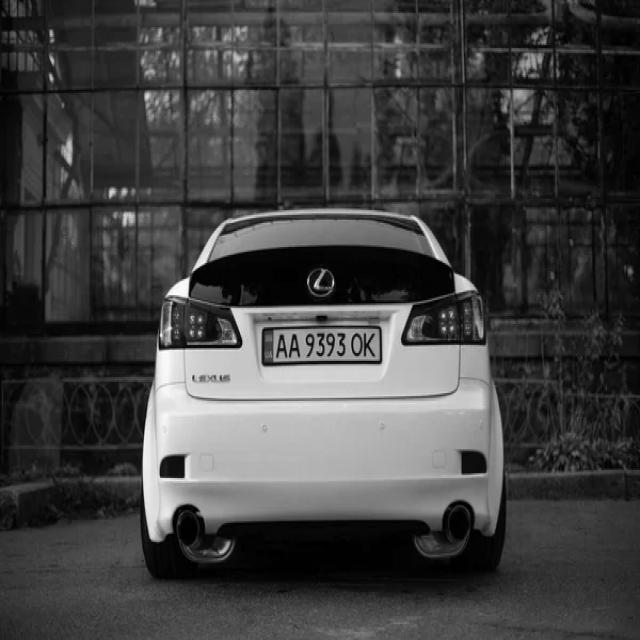Car: (140, 210, 507, 579)
